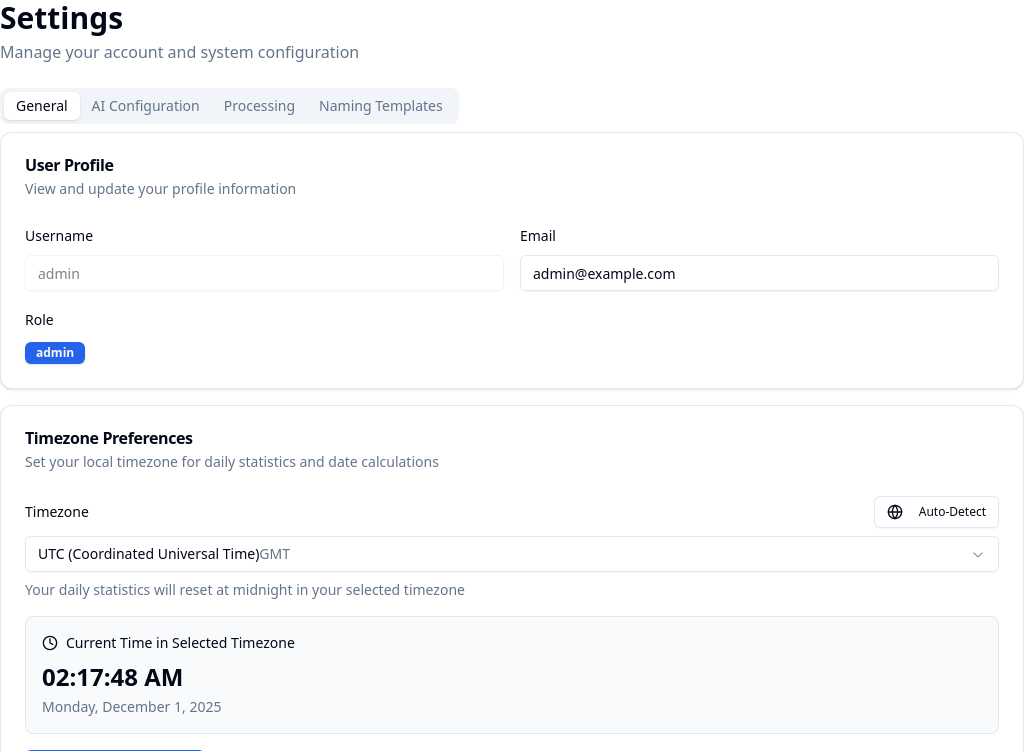
Test: SettingsPage › displays processing configuration for admin users
This screenshot has width=1024, height=751.
Step 1. Click the button "Processing" → (259, 106), box [212, 92, 307, 120]
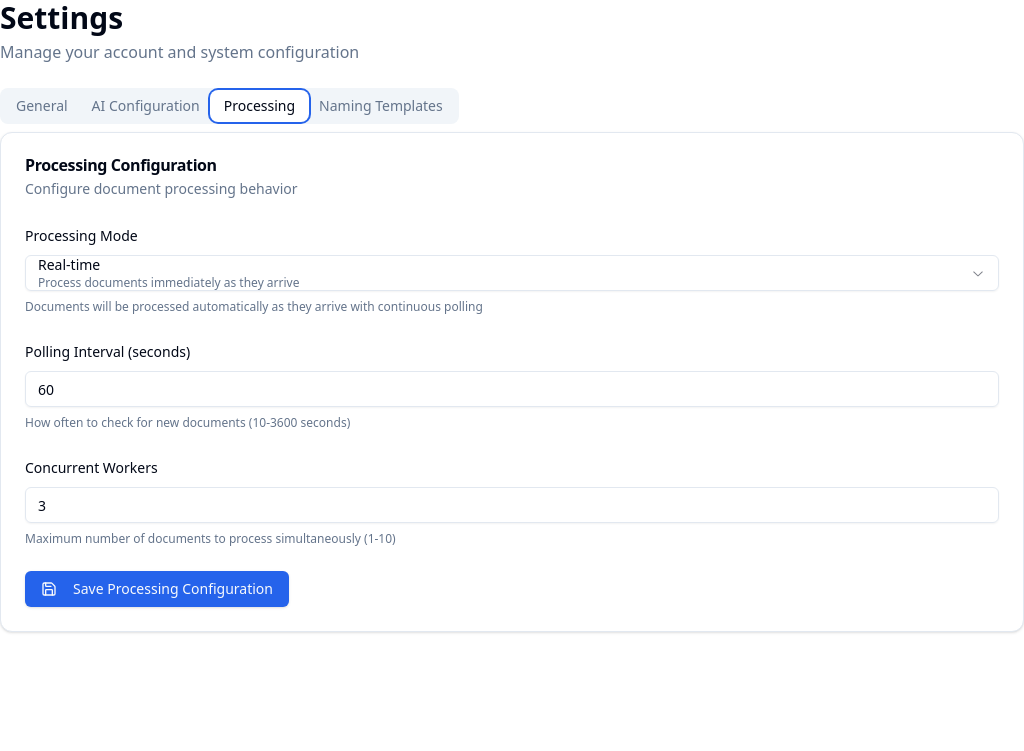
expect the text "Processing Configuration" is shown: met, box [25, 154, 217, 176]
expect the text "Processing Mode" is shown: met, box [25, 226, 138, 245]
expect the number field showing "60" is shown: met, box [25, 371, 999, 407]
